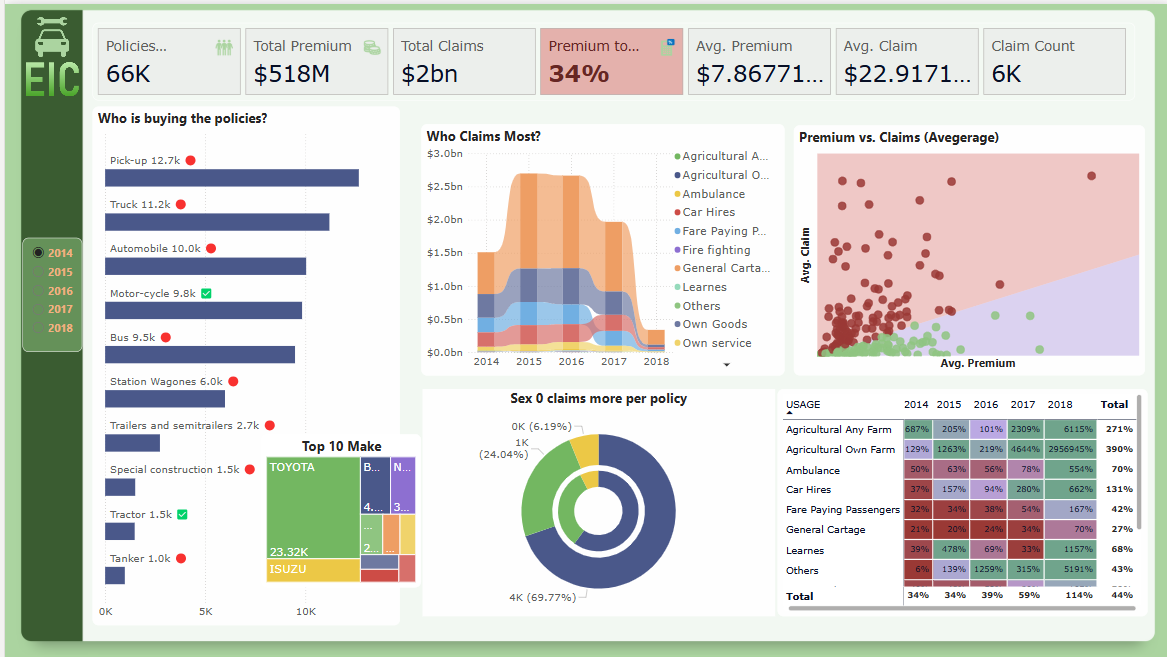

What the dashboard file says about the page in this screenshot:
{"tool":"powerbi","page":{"name":"Dashboard ","canvas":[1920,1080],"ordinal":0},"visuals":[{"type":"cardVisual","fields":{"Data":["_Measures.Policies Opened","_Measures.Total Premium","_Measures.Total Claims","_Measures.Premium to Claims Ratio","_Measures.Avg. Premium","_Measures.Avg. Claim2","_Measures.Claim Count"]},"box":[143.3,30,1716.7,128.3],"z":0},{"type":"slicer","title":"Policy Year ","fields":{"Values":["calendar.Year"]},"box":[28,384,98,188],"z":1000},{"type":"clusteredBarChart","title":"Who is buying the policies?","fields":{"Category":["policies.TYPE_VEHICLE"],"Y":["_Measures.Dummy Series","_Measures.Policies Opened"]},"box":[144,168,506,854],"z":2000},{"type":"ribbonChart","title":"Who Claims Most?","fields":{"Category":["calendar.Year"],"Y":["_Measures.Total Claims"],"Series":["policies.USAGE"]},"box":[686,198,598,414],"z":3000},{"type":"donutChart","title":"Sex 0 claims more per policy ","fields":{"Category":["policies.SEX"],"Y":["_Measures.Claim Count"]},"box":[687.5,634,580.4,374.6],"z":4000},{"type":"donutChart","fields":{"Category":["policies.SEX"],"Y":["_Measures.Policies Opened"]},"box":[890,740,176,188],"z":5000},{"type":"scatterChart","title":"Premium vs. Claims (Avegerage)","fields":{"X":["_Measures.Avg. Premium"],"Category":["policies.TYPE_VEHICLE","policies.MAKE"],"Y":["_Measures.Avg. Claim2"]},"box":[1298.8,199.7,578.4,411.7],"z":6000},{"type":"pivotTable","fields":{"Rows":["policies.USAGE"],"Columns":["calendar.Year"],"Values":["_Measures.Premium to Claims Ratio"]},"box":[1284.4,634,592.8,374.6],"z":7000},{"type":"image","box":[28,10,98,168],"z":8000},{"type":"treemap","title":"Top 10 Make ","fields":{"Group":["policies.MAKE"],"Values":["CountNonNull(policies.USAGE)"]},"box":[422,708.1,263.5,253.2],"z":9000}]}

Visuals, with their boxes in screenshot pixels (x1, y1, x2, y2), scaled from the page's 1920x1080 canvas onto the 1167x657 screenshot:
cardVisual - _Measures.Policies Opened x _Measures.Total Premium: [87, 18, 1131, 96]
"Policy Year " slicer: [17, 234, 77, 348]
"Who is buying the policies?" clusteredBarChart: [88, 102, 395, 622]
"Who Claims Most?" ribbonChart: [417, 120, 780, 372]
"Sex 0 claims more per policy " donutChart: [418, 386, 771, 614]
donutChart - policies.SEX x _Measures.Policies Opened: [541, 450, 648, 565]
"Premium vs. Claims (Avegerage)" scatterChart: [789, 121, 1141, 372]
pivotTable - policies.USAGE x calendar.Year: [781, 386, 1141, 614]
image: [17, 6, 77, 108]
"Top 10 Make " treemap: [256, 431, 417, 585]
